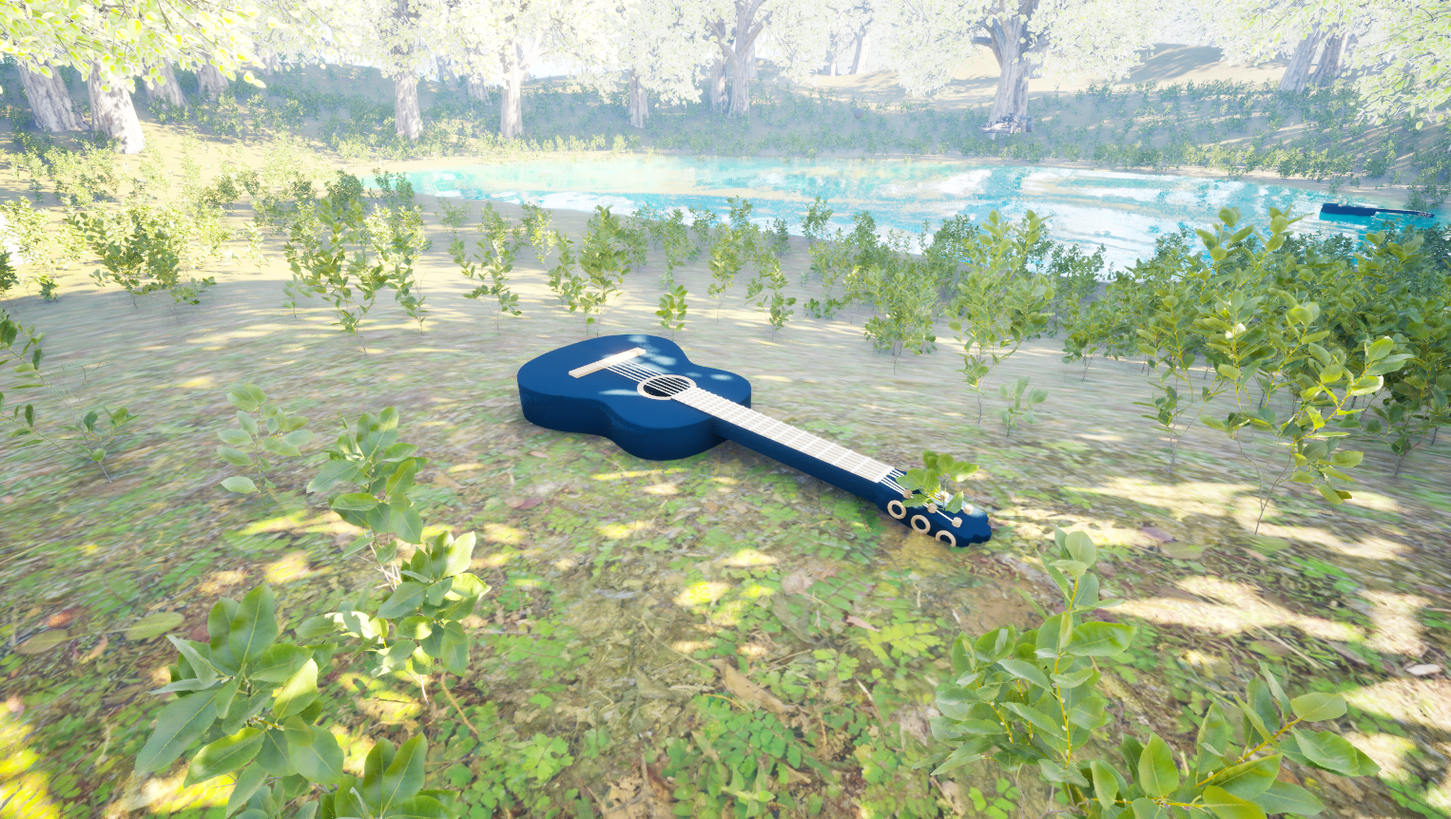Guitar: (490, 323, 1042, 645)
